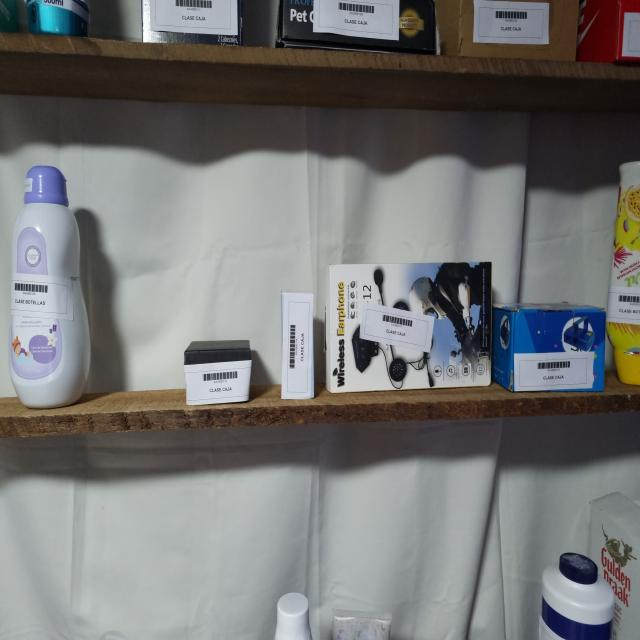botella: (9, 165, 90, 409), (606, 161, 640, 385), (539, 552, 614, 640), (18, 0, 90, 36)
caja: (326, 262, 492, 392), (492, 301, 605, 399), (278, 0, 440, 54), (435, 0, 578, 61), (133, 0, 243, 46), (184, 340, 251, 405), (576, 0, 640, 62), (281, 293, 315, 400)
